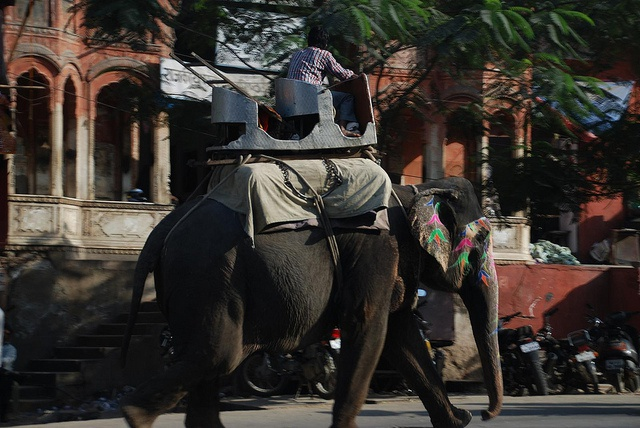non-vehicle: (244, 324, 346, 403), (534, 307, 598, 394), (496, 310, 548, 393), (588, 313, 636, 393), (370, 352, 408, 390)
